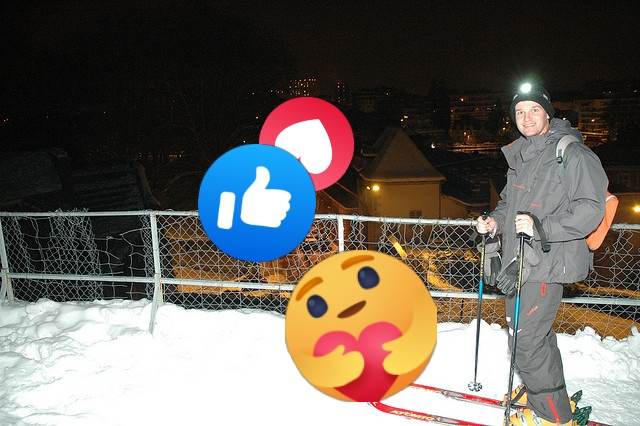care: (285, 250, 437, 402)
like: (198, 144, 316, 262)
love: (259, 97, 354, 192)
